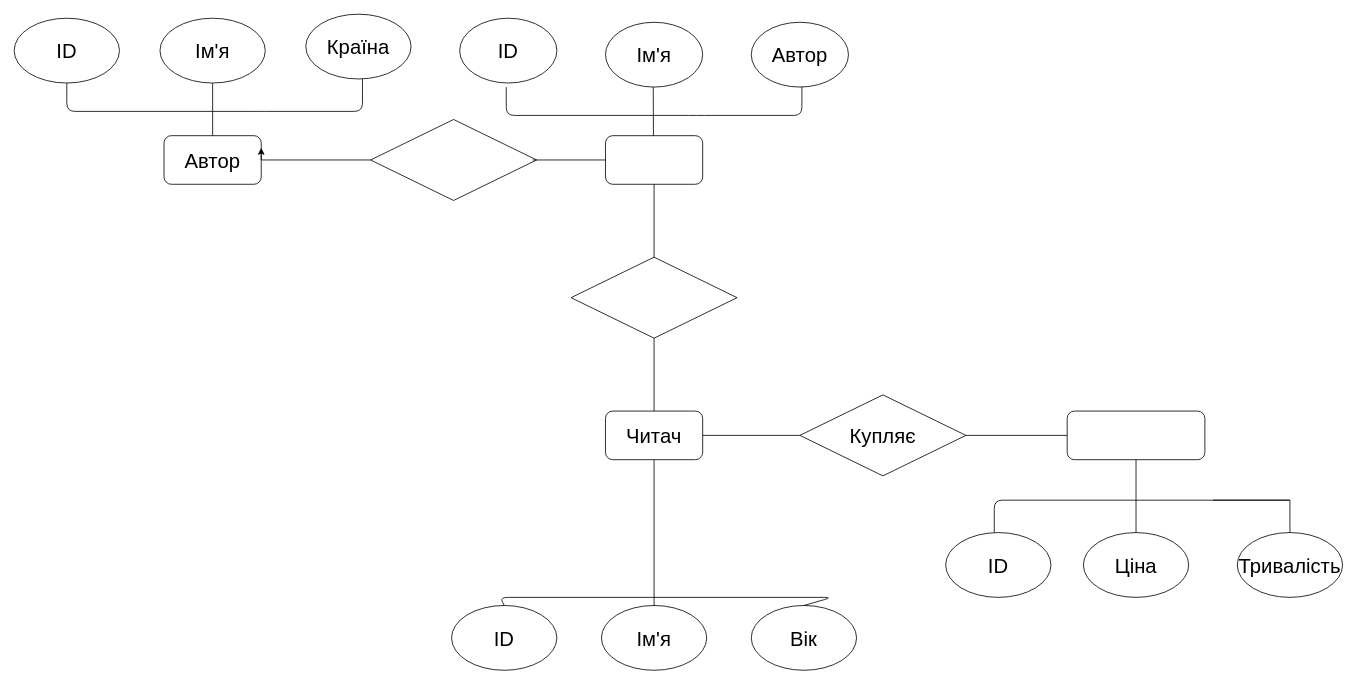
Image size: 1357x684. Some labels were removed from this diagram. The centre of each missing label's shape, as x and y in pixels:
Абонемент: the point at 1135,435
Видається: the point at 653,297
Книга: the point at 654,159
Пише: the point at 453,159
